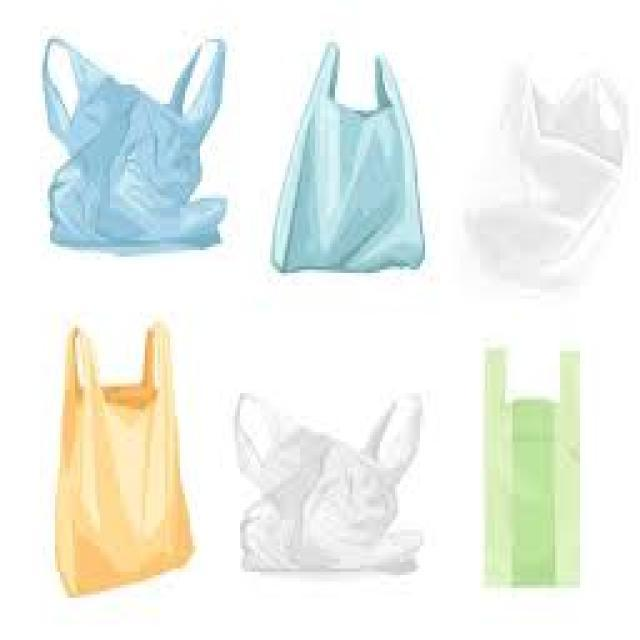Bolsa-de-plastico: (459, 288, 591, 615), (51, 310, 197, 600), (41, 38, 227, 252), (271, 42, 426, 277), (231, 392, 425, 577)
